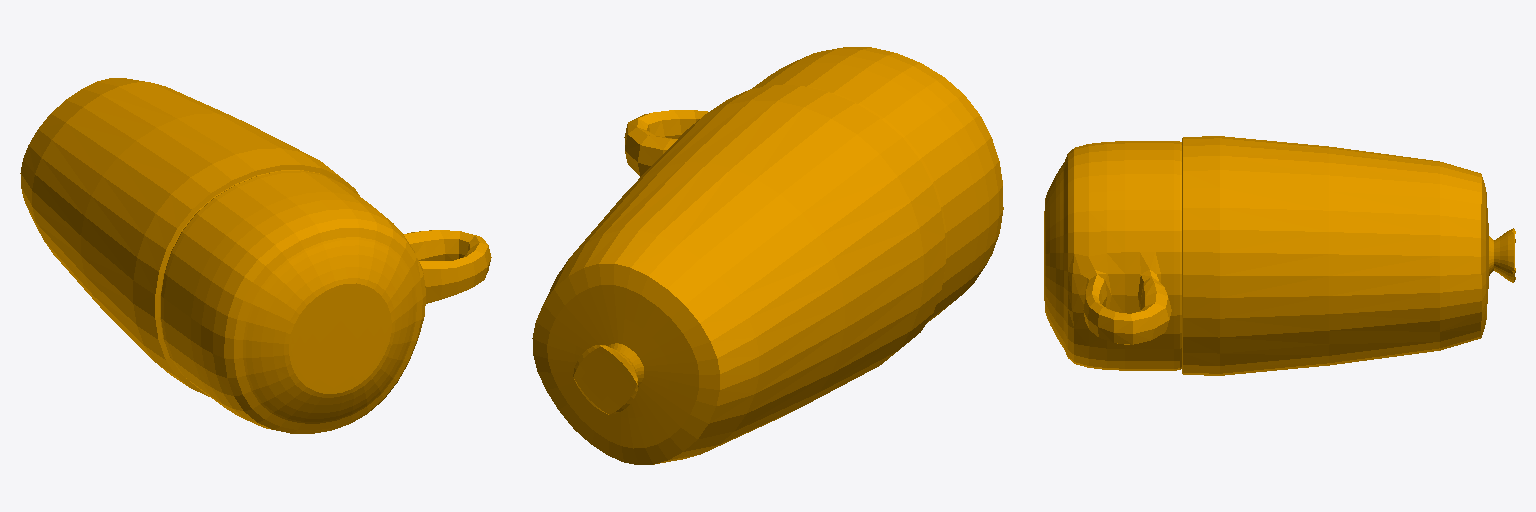
robot.urdf — 176:
<?xml version="1.0" ?>
<robot name="176">
  <link name="body">
    <visual>
      <geometry>
        <mesh filename="../shapes/176.obj"/>
      </geometry>
    </visual>
    <collision>
      <geometry>
        <mesh filename="../shapes/176.obj"/>
      </geometry>
    </collision>
  </link>
</robot>

--- Render facts (derived) ---
3 views of the same robot in one strip: view 1: azimuth 30°, elevation 25°; view 2: azimuth 150°, elevation 25°; view 3: azimuth 270°, elevation 25° (orthographic).
Robot: 176 — 1 links, 0 joints (none); root link body; default pose: every joint at zero.
Visible links, largest first — view 1: body; view 2: body; view 3: body.
Boxes of the visible links, x1,y1,x2,y2 form: body: [20, 78, 491, 433]; body: [532, 47, 1003, 464]; body: [1044, 136, 1515, 375].
Size in the robot's own frame: 3.45 by 5.08 by 2.55 metres.
Meshes: 1 distinct files referenced, 1 mesh visuals loaded (1 OBJ).